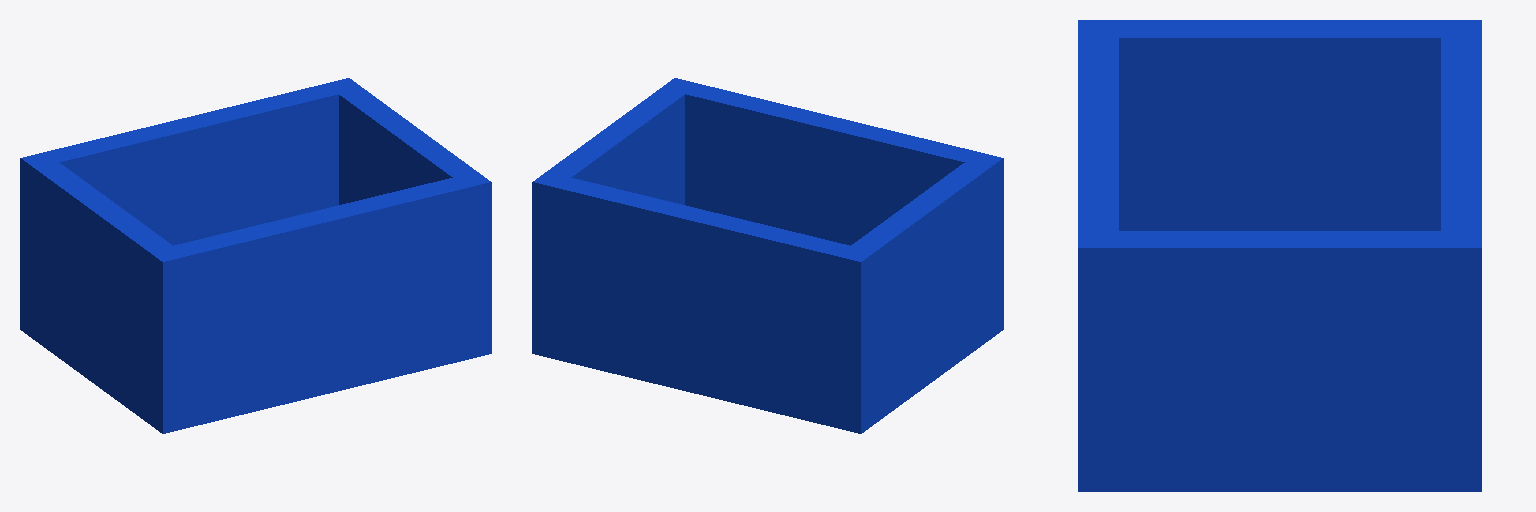
URDF robot description (box):
<?xml version="1.0"?>
<robot name="box">
  <!--
    Open-top box with external dimensions:
      length X = 0.40 m
      width  Y = 0.30 m
      height Z = 0.20 m
      wall thickness = 0.03 m
      total mass = 0.40 kg

    The link frame is at the center of the outside bottom face.
    The box therefore rests on z=0 when the link origin is at z=0.
  -->
  <link name="box">
    <inertial>
      <!-- Center of mass computed from the bottom and four side plates. -->
      <origin xyz="0 0 0.0794549763" rpy="0 0 0"/>
      <mass value="0.4"/>
      <!-- Inertia about the link-frame axes, expressed at the COM. -->
      <inertia
        ixx="0.00602724295"
        ixy="0"
        ixz="0"
        iyy="0.00890844358"
        iyz="0"
        izz="0.01183968404"/>
    </inertial>

    <!-- Bottom plate -->
    <visual name="bottom_visual">
      <origin xyz="0 0 0.015" rpy="0 0 0"/>
      <geometry>
        <box size="0.4 0.3 0.03"/>
      </geometry>
      <material name="box_blue">
        <color rgba="0.12 0.35 0.85 1.0"/>
      </material>
    </visual>
    <collision name="bottom_collision">
      <origin xyz="0 0 0.015" rpy="0 0 0"/>
      <geometry>
        <box size="0.4 0.3 0.03"/>
      </geometry>
    </collision>

    <!-- Left wall -->
    <visual name="left_wall_visual">
      <origin xyz="-0.185 0 0.115" rpy="0 0 0"/>
      <geometry>
        <box size="0.03 0.3 0.17"/>
      </geometry>
      <material name="box_blue"/>
    </visual>
    <collision name="left_wall_collision">
      <origin xyz="-0.185 0 0.115" rpy="0 0 0"/>
      <geometry>
        <box size="0.03 0.3 0.17"/>
      </geometry>
    </collision>

    <!-- Right wall -->
    <visual name="right_wall_visual">
      <origin xyz="0.185 0 0.115" rpy="0 0 0"/>
      <geometry>
        <box size="0.03 0.3 0.17"/>
      </geometry>
      <material name="box_blue"/>
    </visual>
    <collision name="right_wall_collision">
      <origin xyz="0.185 0 0.115" rpy="0 0 0"/>
      <geometry>
        <box size="0.03 0.3 0.17"/>
      </geometry>
    </collision>

    <!-- Front wall -->
    <visual name="front_wall_visual">
      <origin xyz="0 -0.135 0.115" rpy="0 0 0"/>
      <geometry>
        <box size="0.34 0.03 0.17"/>
      </geometry>
      <material name="box_blue"/>
    </visual>
    <collision name="front_wall_collision">
      <origin xyz="0 -0.135 0.115" rpy="0 0 0"/>
      <geometry>
        <box size="0.34 0.03 0.17"/>
      </geometry>
    </collision>

    <!-- Back wall -->
    <visual name="back_wall_visual">
      <origin xyz="0 0.135 0.115" rpy="0 0 0"/>
      <geometry>
        <box size="0.34 0.03 0.17"/>
      </geometry>
      <material name="box_blue"/>
    </visual>
    <collision name="back_wall_collision">
      <origin xyz="0 0.135 0.115" rpy="0 0 0"/>
      <geometry>
        <box size="0.34 0.03 0.17"/>
      </geometry>
    </collision>
  </link>
</robot>

--- Facts derived from the render (not from the file) ---
Views: 3 orthographic renders of the robot side by side, from view 1: azimuth 30°, elevation 25°; view 2: azimuth 150°, elevation 25°; view 3: azimuth 270°, elevation 25°.
Robot: box — 1 links, 0 joints (none); root link box; default pose: every joint at zero.
Links seen in each view (by area): view 1: box; view 2: box; view 3: box.
Link boxes in pixels (<box>): box: <box>20,78,491,433</box>; box: <box>532,78,1003,433</box>; box: <box>1078,20,1481,491</box>.
Size in the robot's own frame: 0.4 by 0.3 by 0.2 metres.
Geometry: primitives only (box / cylinder / sphere), no mesh files.
